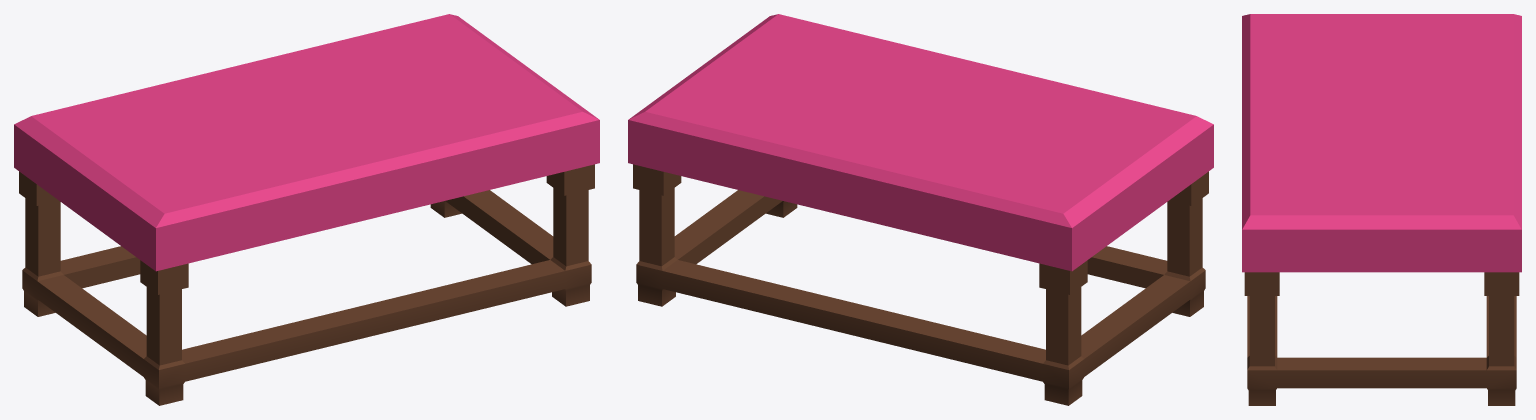
File: table12.fbx
3 renders of one model, left to right at view 1: azimuth 30°, elevation 25°; view 2: azimuth 150°, elevation 25°; view 3: azimuth 270°, elevation 25°, orthographic.
Parts seen in each view (by area): view 1: Table12; view 2: Table12; view 3: Table12.
Boxes of the visible parts, left/top/right/bottom form: Table12: left=14, top=14, right=599, bottom=405; Table12: left=628, top=14, right=1213, bottom=405; Table12: left=1242, top=14, right=1521, bottom=405.
Size of the model in its own units: 186 by 75.93 by 103.
